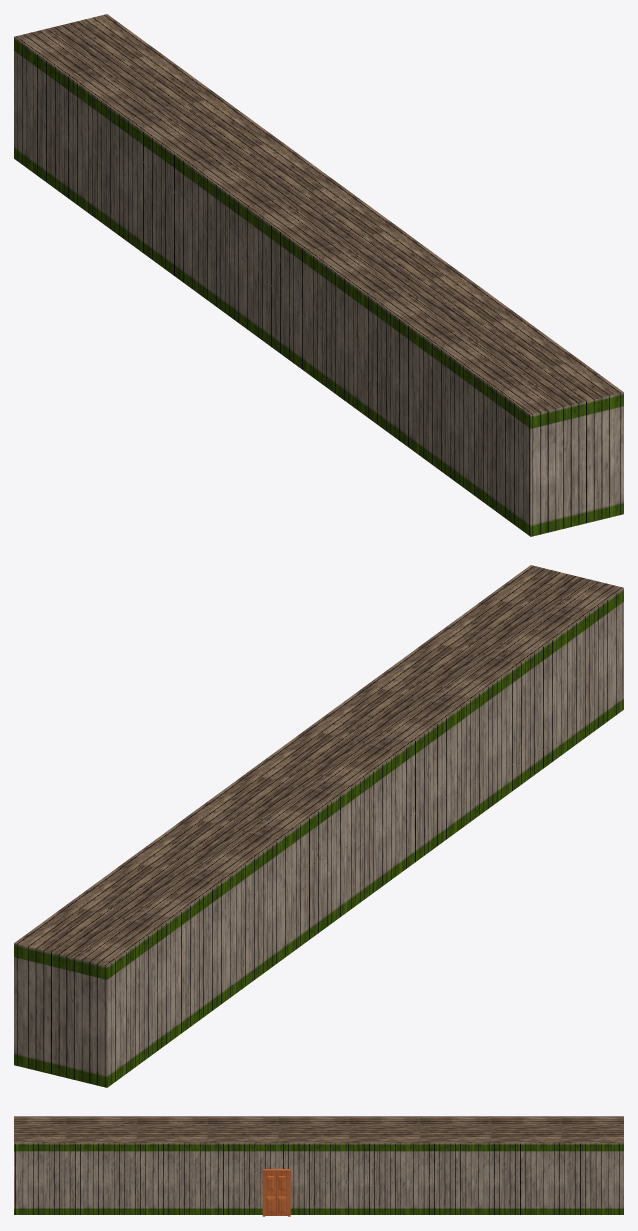
The model's file is corridor.fbx.
3 renders of one model, top to bottom at view 1: azimuth 30°, elevation 25°; view 2: azimuth 150°, elevation 25°; view 3: azimuth 270°, elevation 25°, orthographic. The views are drawn at different scales.
Visible parts, largest first — view 1: Cube; view 2: Cube; view 3: Cube, Cube.001.
Part boxes in pixels (x1,y1,x2,y2): Cube: (14,14,623,536); Cube: (14,565,623,1087); Cube: (14,1116,623,1214); Cube.001: (262,1169,290,1216).
Size of the model in its own units: 417 by 502 by 3842.
Materials: 4 (4 with a texture image).
